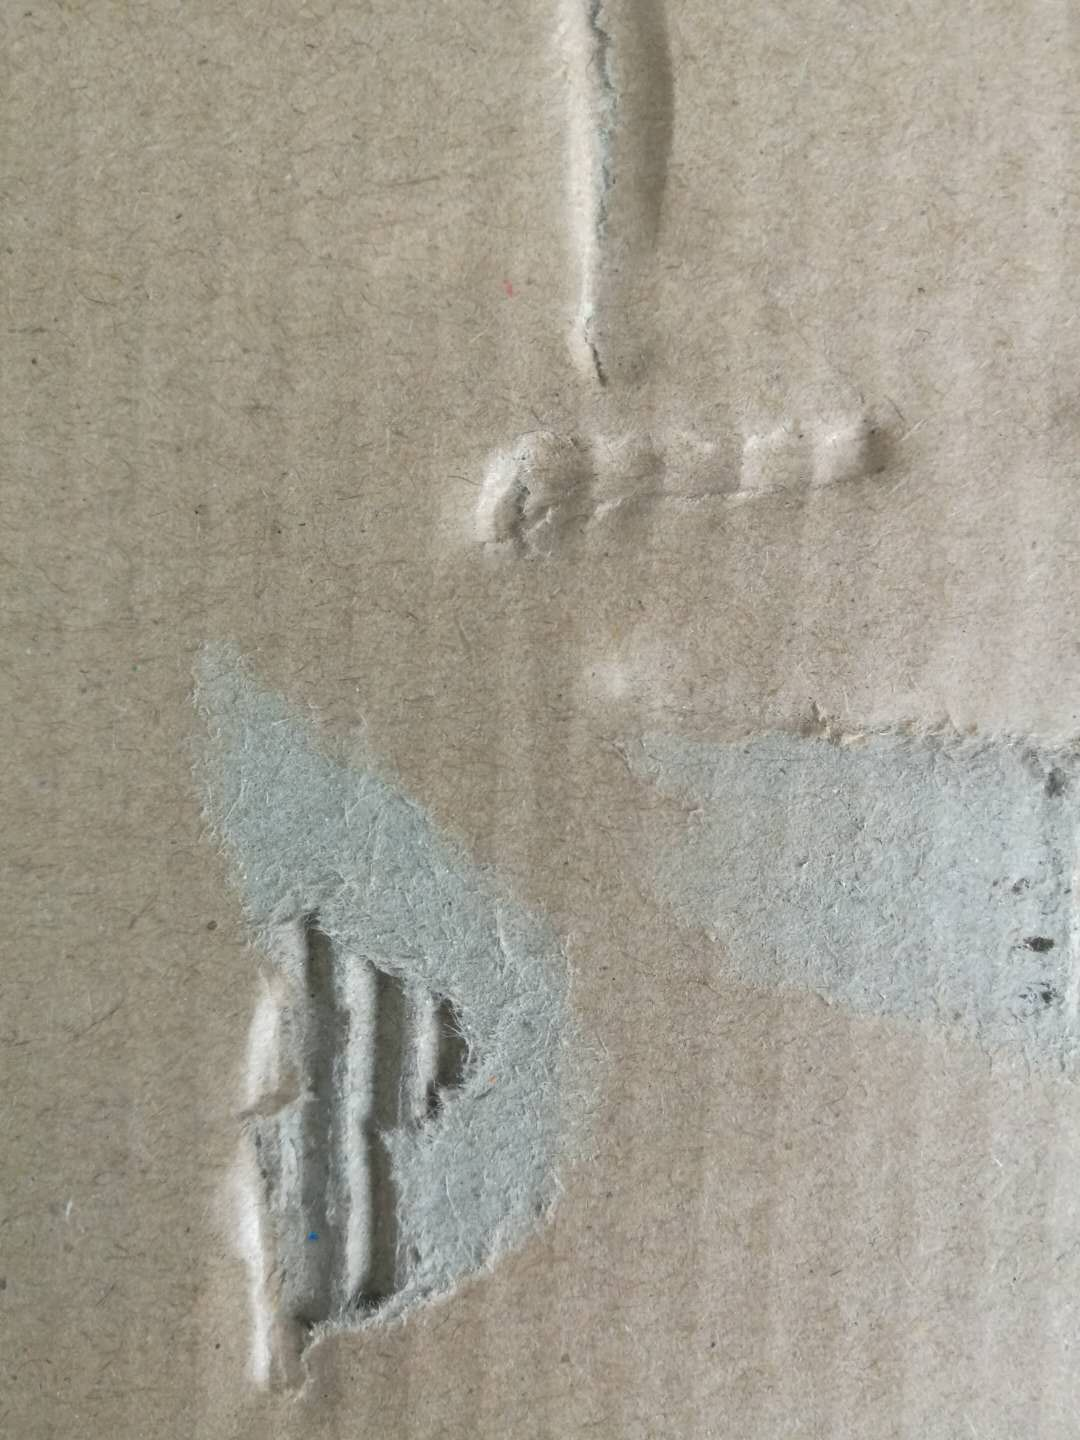defect: (134, 616, 635, 1413), (606, 667, 1080, 1079), (449, 392, 939, 568), (534, 2, 704, 404)
